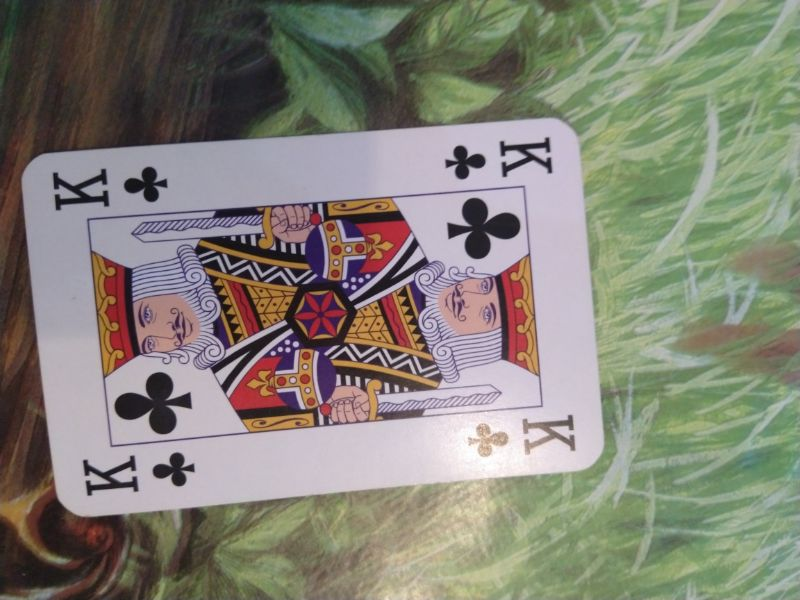Kc: (76, 445, 199, 497), (441, 131, 559, 184), (48, 163, 173, 211), (463, 413, 581, 459)
